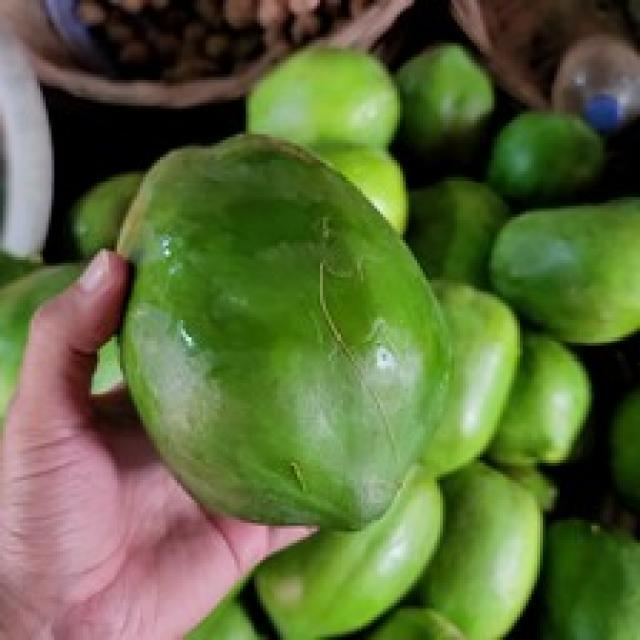Pepaya unrippen: (92, 118, 464, 544)
